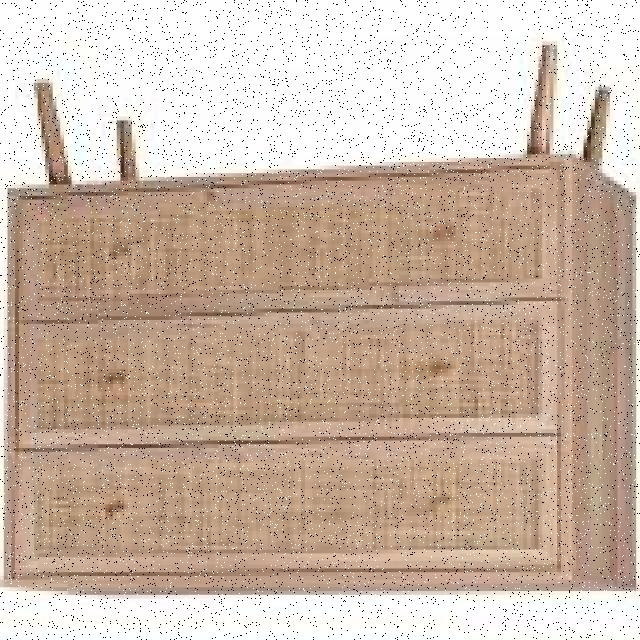mobile-phone: (0, 44, 634, 606)
